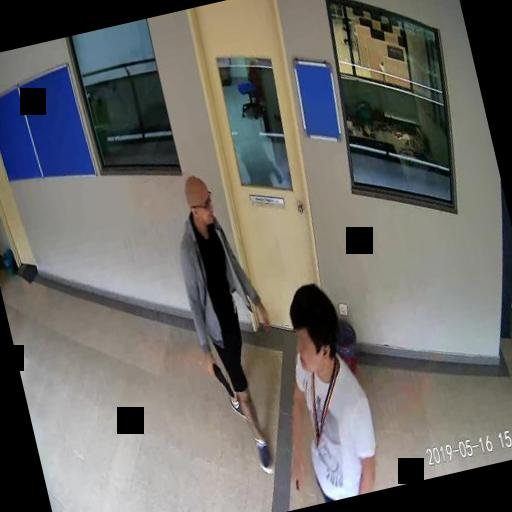Handgun: (205, 356, 233, 401)
